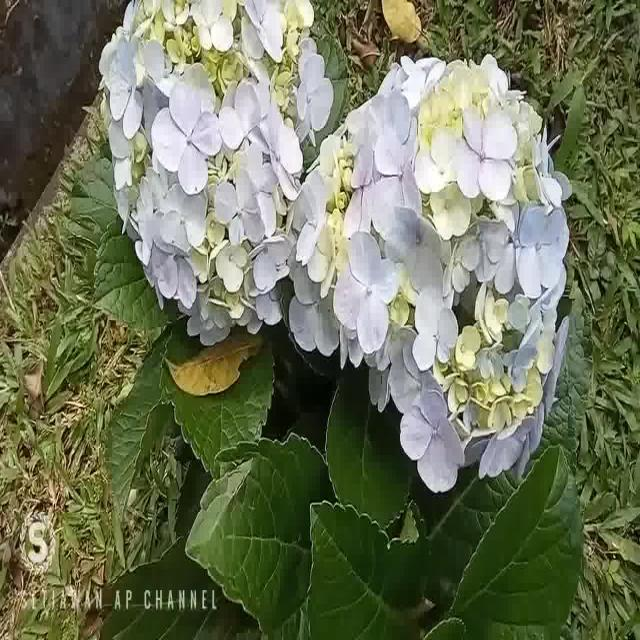Flower: (291, 57, 568, 482), (86, 1, 324, 338)
